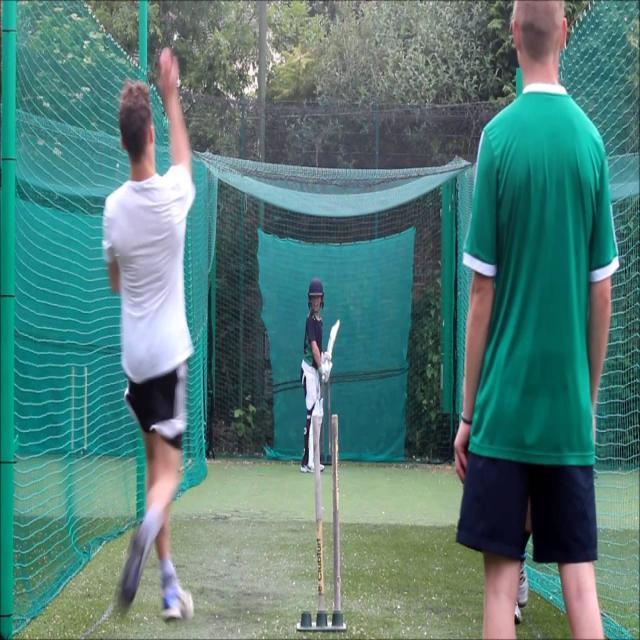bat: (320, 320, 347, 380)
